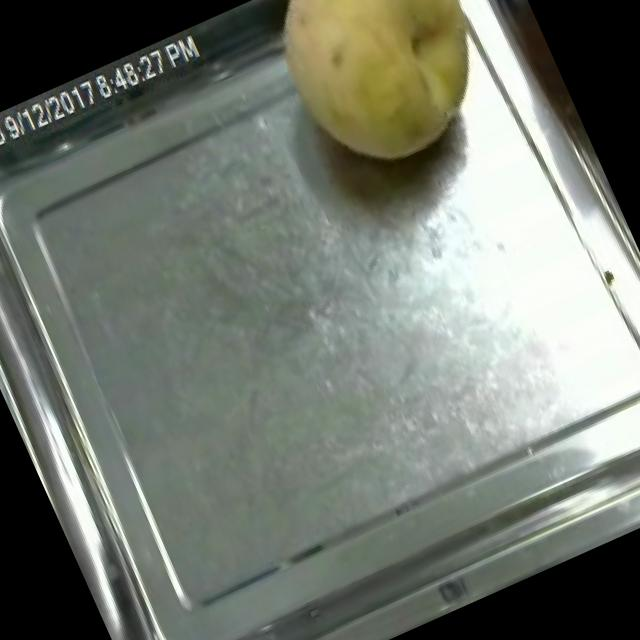Fruit: (244, 0, 540, 200)
